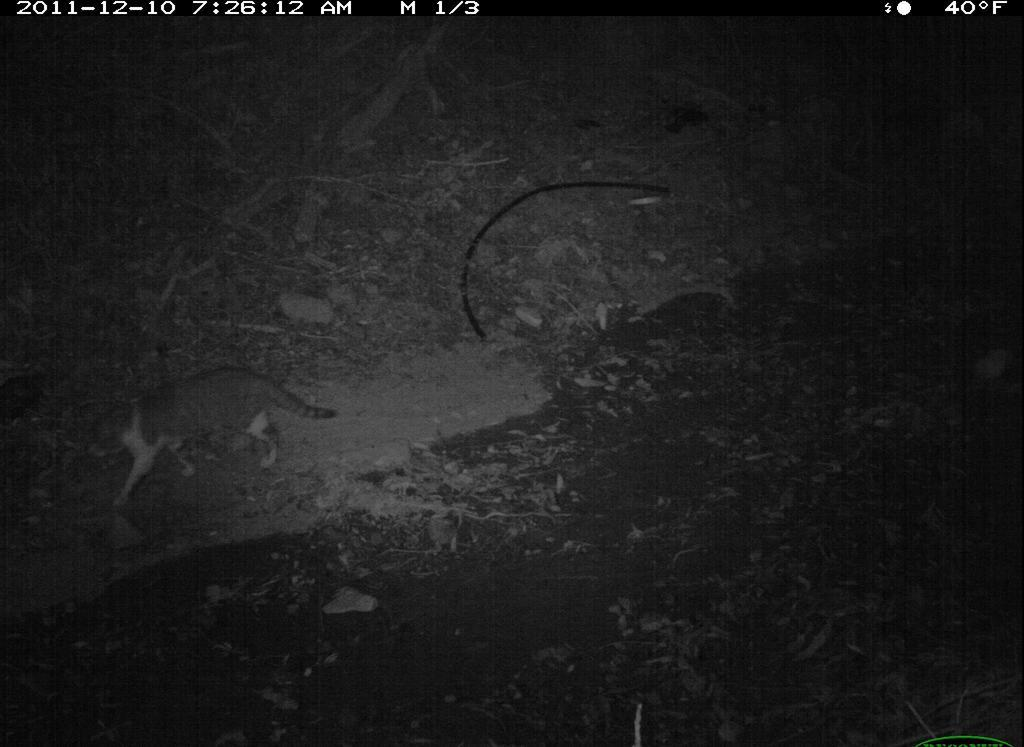cat: (72, 360, 347, 519)
